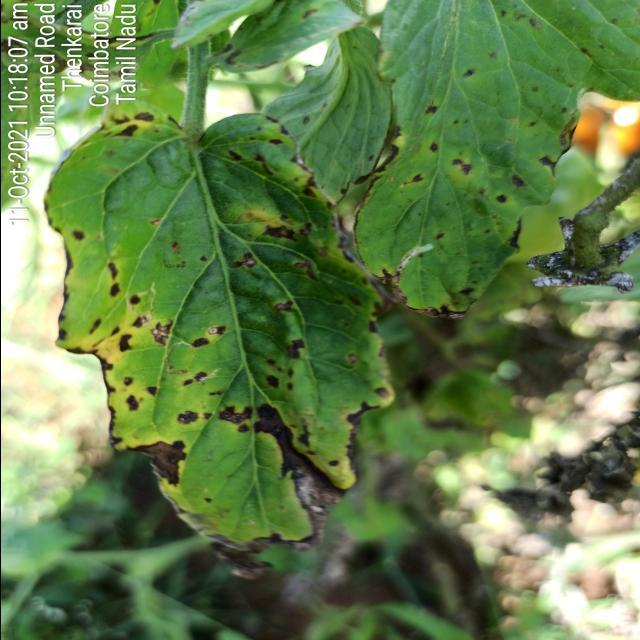Tomato mosaic virus leaf: (56, 110, 344, 496), (344, 61, 574, 319)
